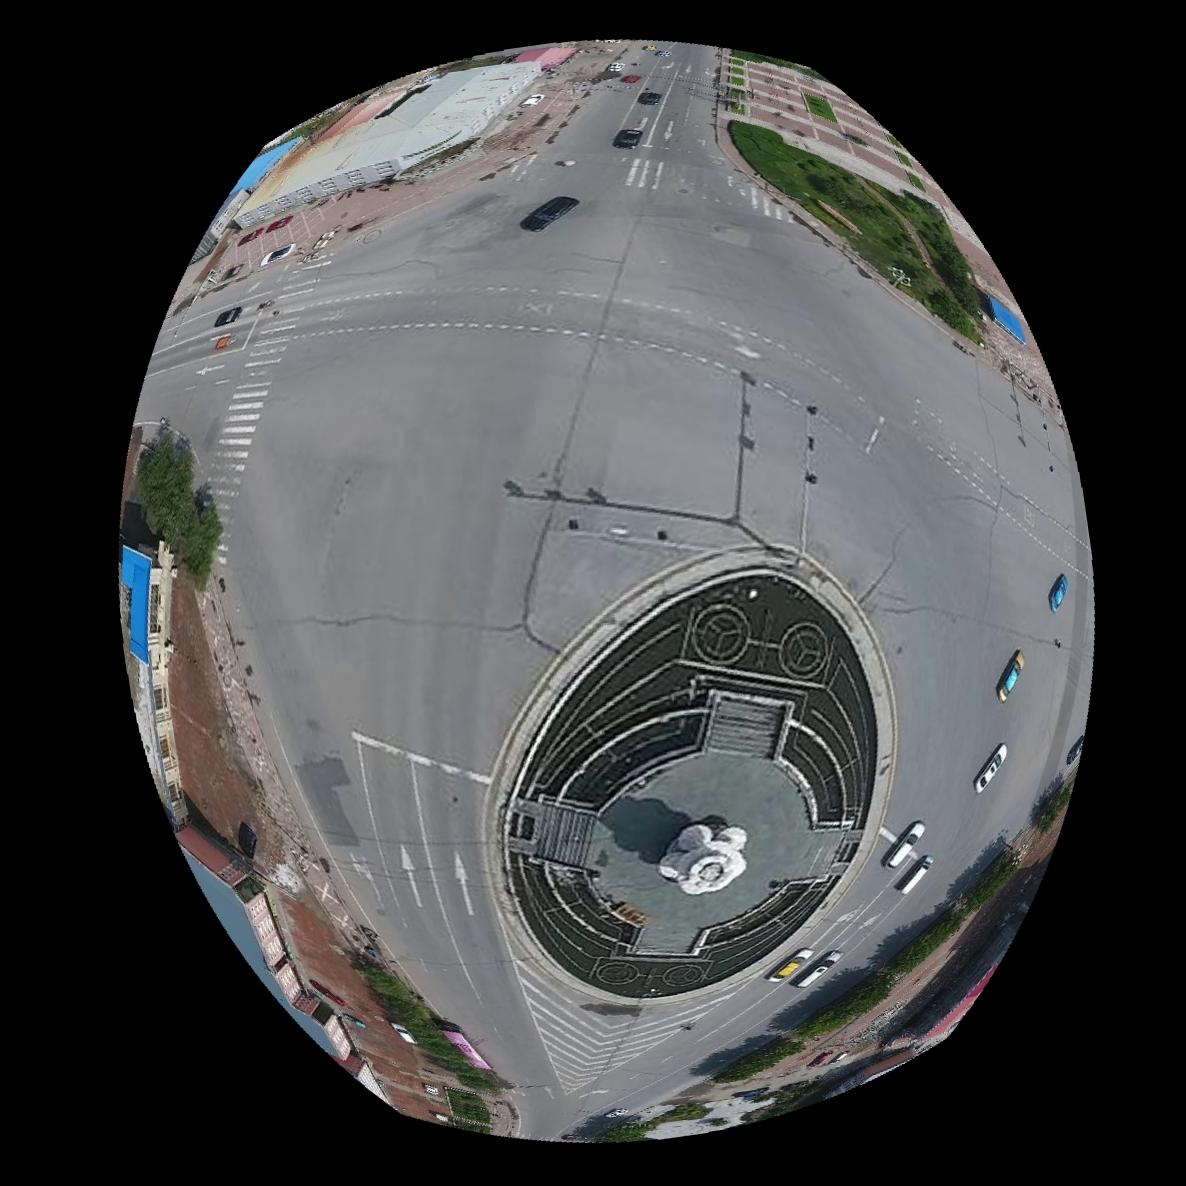building: (191, 41, 578, 260), (174, 823, 388, 1104), (118, 540, 187, 826), (980, 288, 1028, 343)
cars: (436, 1020, 491, 1071), (882, 820, 926, 869), (520, 194, 579, 229), (793, 950, 843, 988), (975, 742, 1009, 793), (767, 948, 814, 983), (997, 649, 1027, 701), (896, 855, 934, 895), (1049, 572, 1070, 612), (258, 240, 293, 263), (235, 821, 256, 859), (612, 126, 642, 147), (213, 303, 240, 326), (260, 213, 291, 230), (637, 87, 662, 103)
trees: (729, 118, 984, 343), (350, 953, 502, 1094), (134, 432, 220, 588), (884, 903, 985, 977), (801, 985, 889, 1039), (957, 847, 1023, 917), (712, 1039, 805, 1085), (595, 1105, 709, 1142), (1031, 771, 1077, 835)
